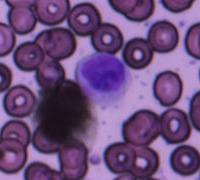L: (75, 52, 134, 106)
